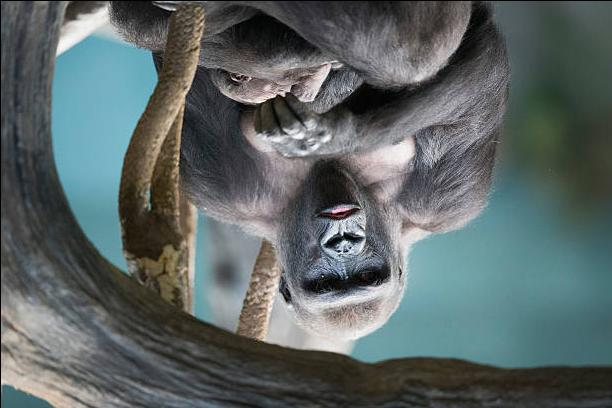gorille_Autres: (182, 96, 505, 364)
